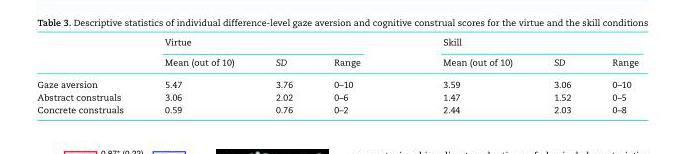table: (36, 36, 638, 114)
table column: (401, 36, 532, 114), (143, 36, 254, 114), (36, 36, 143, 114), (312, 36, 401, 114), (254, 36, 312, 114), (532, 36, 590, 114), (590, 36, 638, 114)
table column header: (36, 36, 638, 73)
table row: (36, 51, 638, 73), (36, 73, 638, 90), (36, 36, 638, 51), (36, 90, 638, 103), (36, 103, 638, 114)
table spanning cell: (143, 36, 401, 51), (401, 36, 638, 51)
